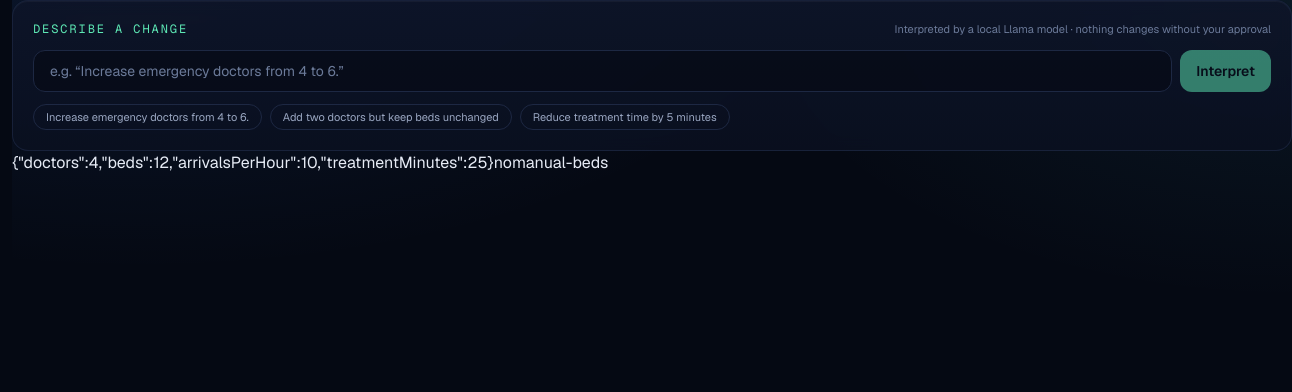
Scenario: ScenarioAssistant approval flow › rejecting discards the proposal and leaves every parameter unchanged
This screenshot has width=1292, height=392.
Type "Add two emergency doctors." into the field named "Describe a scenario change" at (603, 70), box [33,50,1172,92]
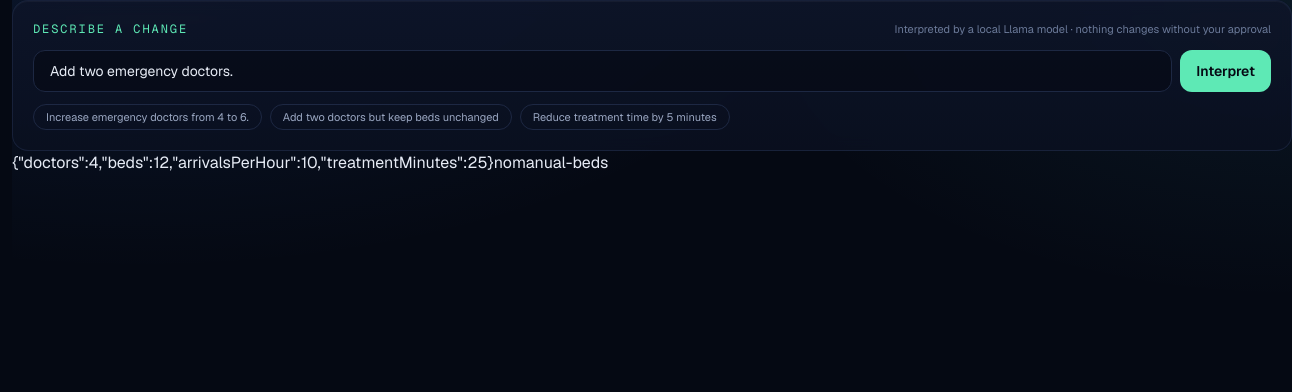
Click the button "Interpret" at (1226, 70), box [1180,50,1271,92]
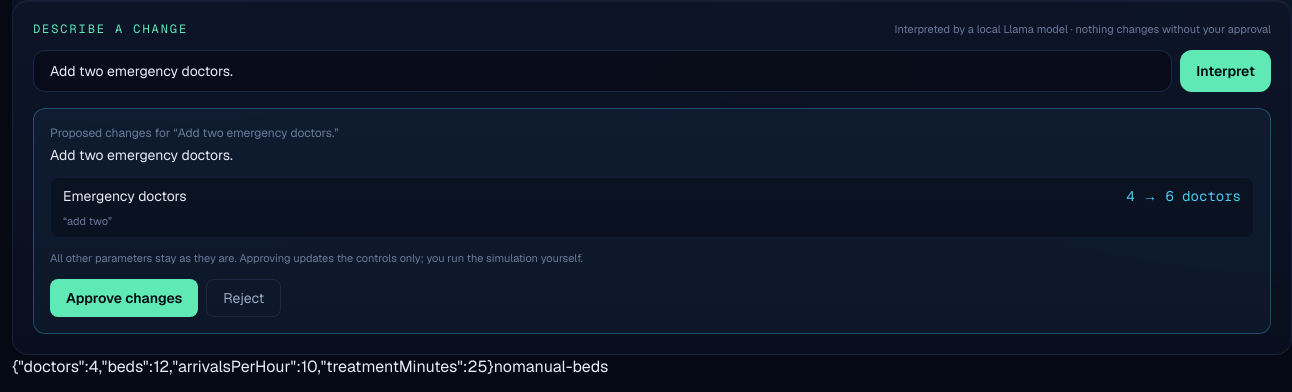
Now the text "4 → 6 doctors" is shown, box [1126,186,1241,206]
Click the button "Reject" at (244, 298), box [206,279,281,317]
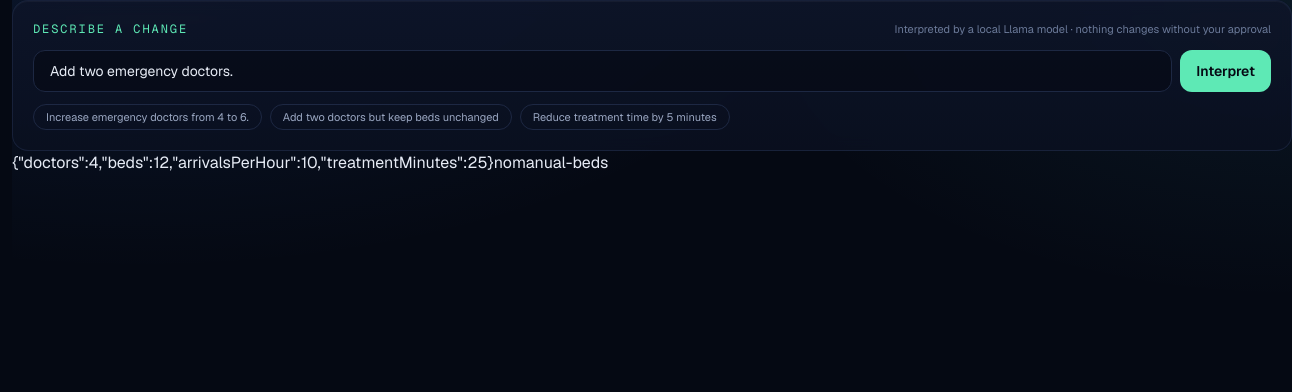
Now the text "4 → 6 doctors" is gone
